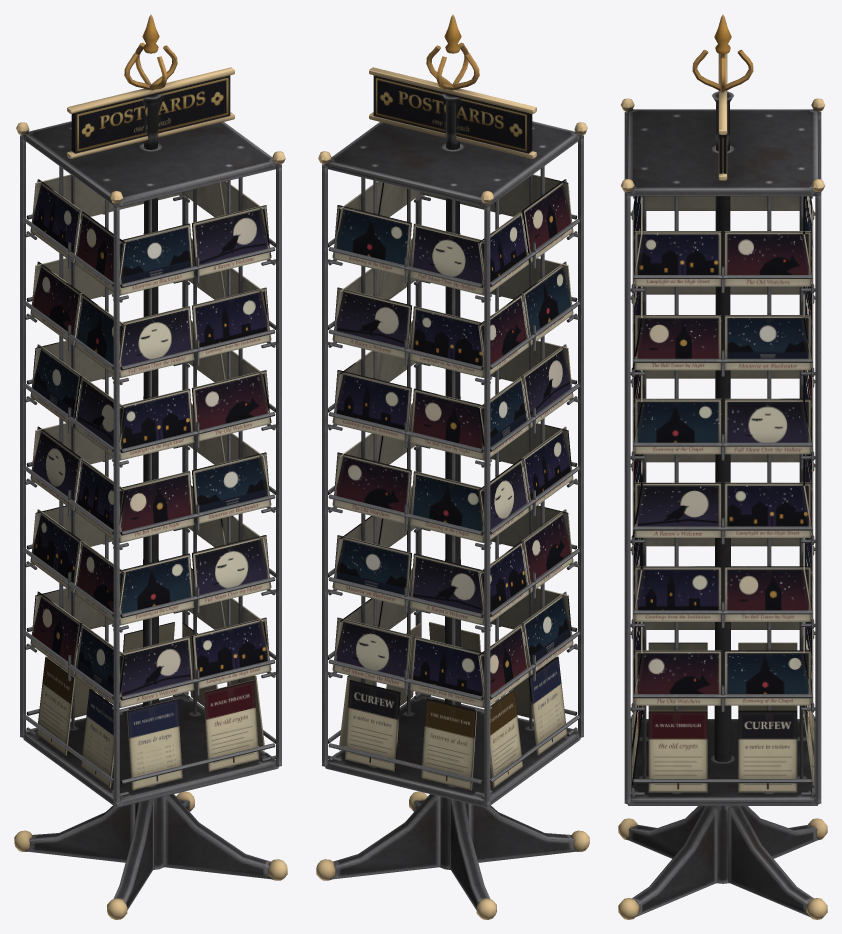
File: PostcardSpinner.fbx
3 renders of one model, left to right at view 1: azimuth 30°, elevation 25°; view 2: azimuth 150°, elevation 25°; view 3: azimuth 270°, elevation 25°, orthographic.
Parts seen in each view (by area): view 1: PostcardSpinner; view 2: PostcardSpinner; view 3: PostcardSpinner.
Part boxes in pixels (left/top/right/bottom): PostcardSpinner: left=14, top=14, right=287, bottom=919; PostcardSpinner: left=316, top=14, right=589, bottom=919; PostcardSpinner: left=618, top=14, right=827, bottom=919.
Size of the model in its own units: 150 by 681 by 150.
